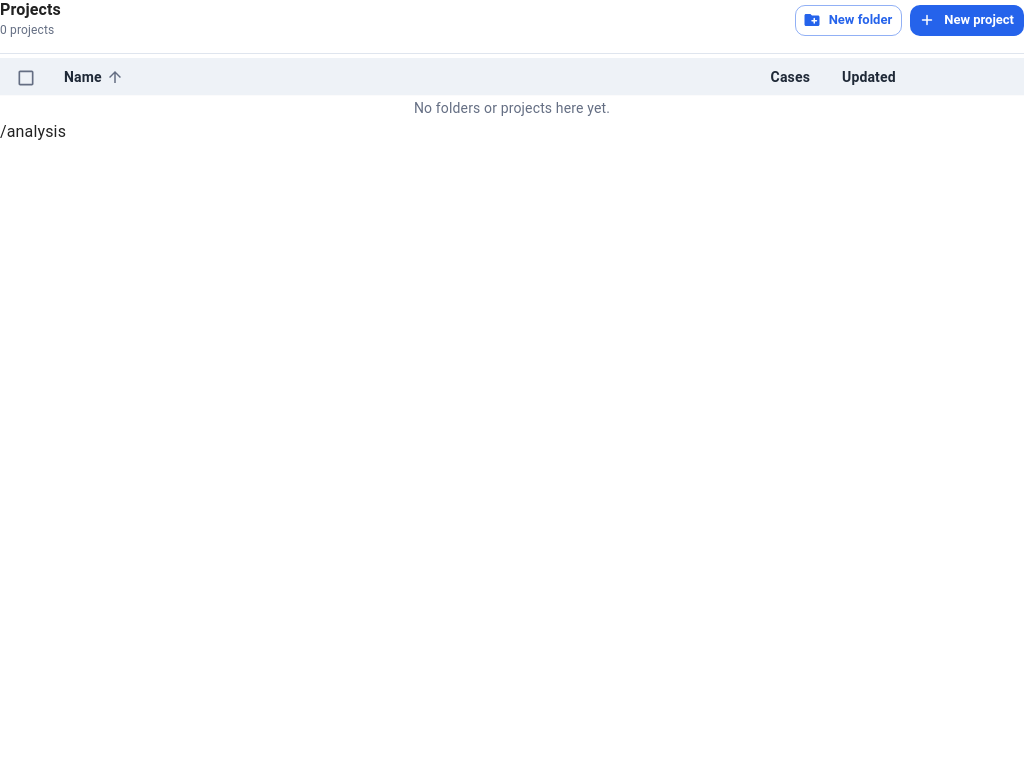
Test case: the Projects browser (CTA-186) › will not let a Project be made without a name
Click the button "New project" at (967, 20), box [910,5,1023,36]
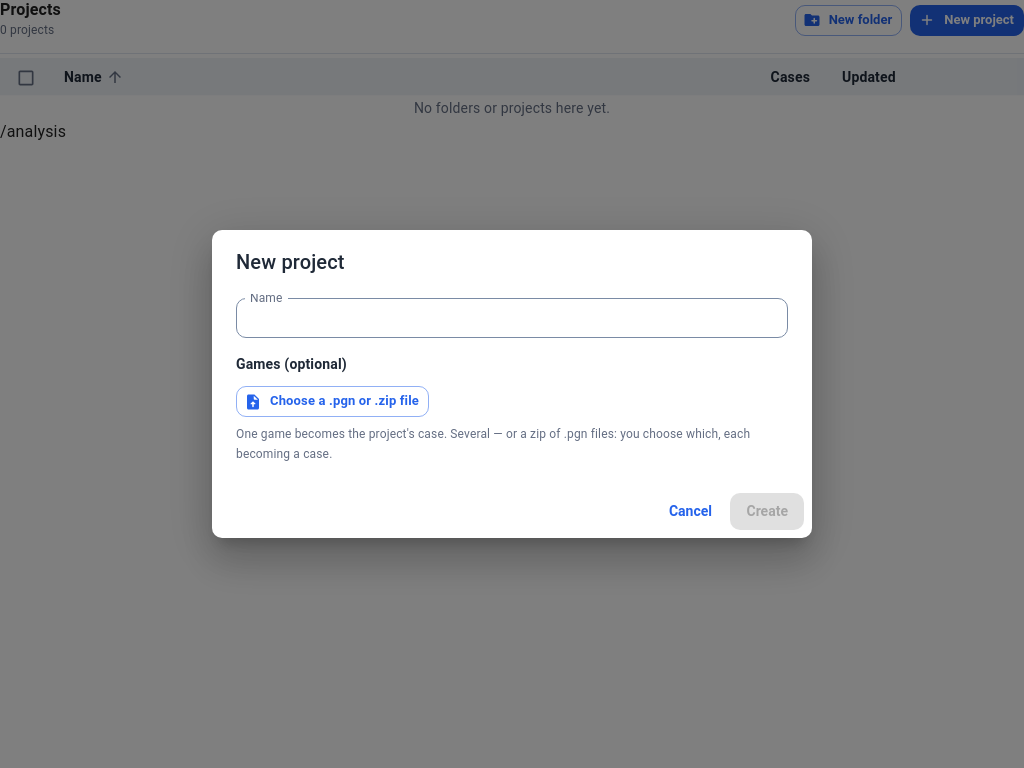
Now the button "Create" is disabled, box [730,493,804,530]
